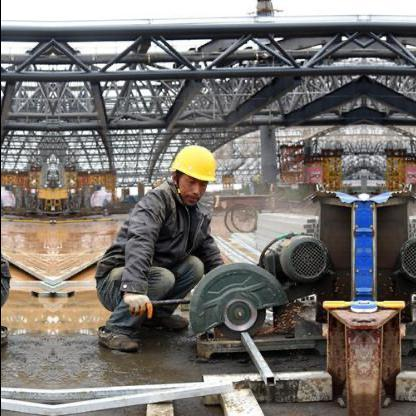Helmet: (166, 140, 218, 202)
